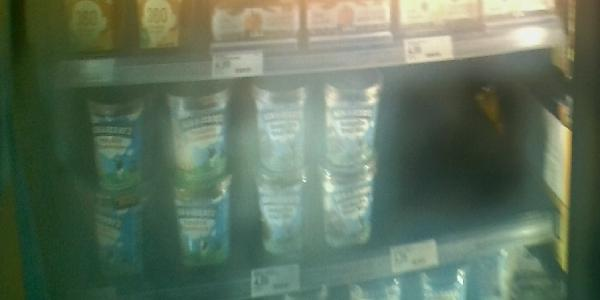icecream: (239, 81, 314, 192), (159, 193, 238, 289), (157, 89, 228, 189), (80, 95, 150, 196), (239, 186, 318, 275), (80, 199, 154, 293), (319, 76, 382, 182), (327, 173, 382, 263)
